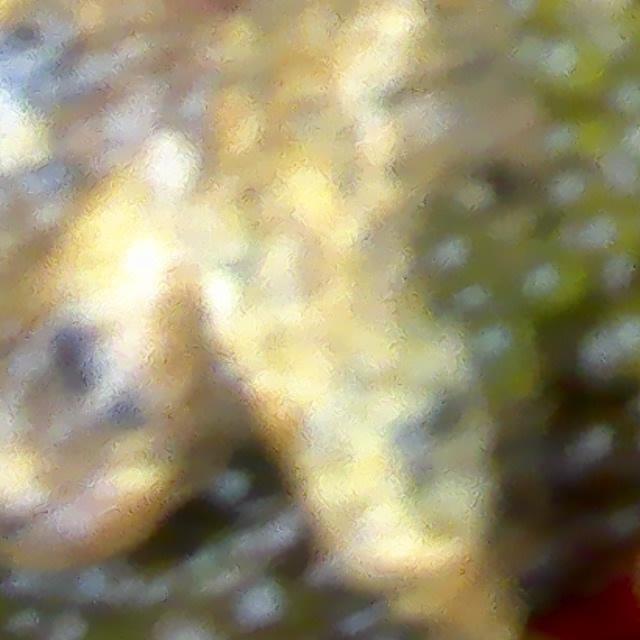SeaGrape: (541, 32, 609, 106)
